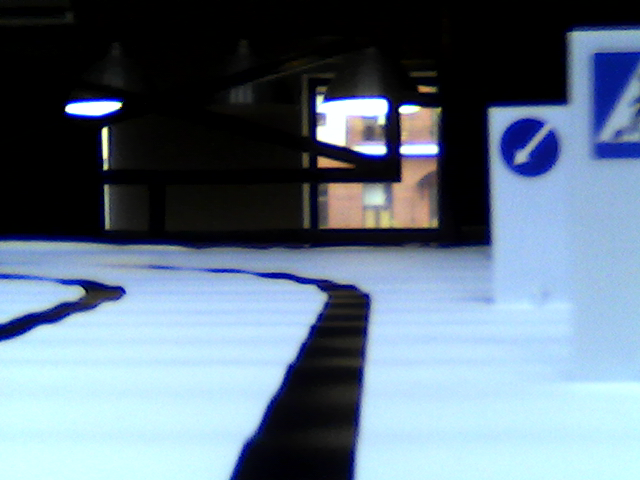pesh: (588, 48, 640, 154)
prep: (497, 115, 560, 178)
